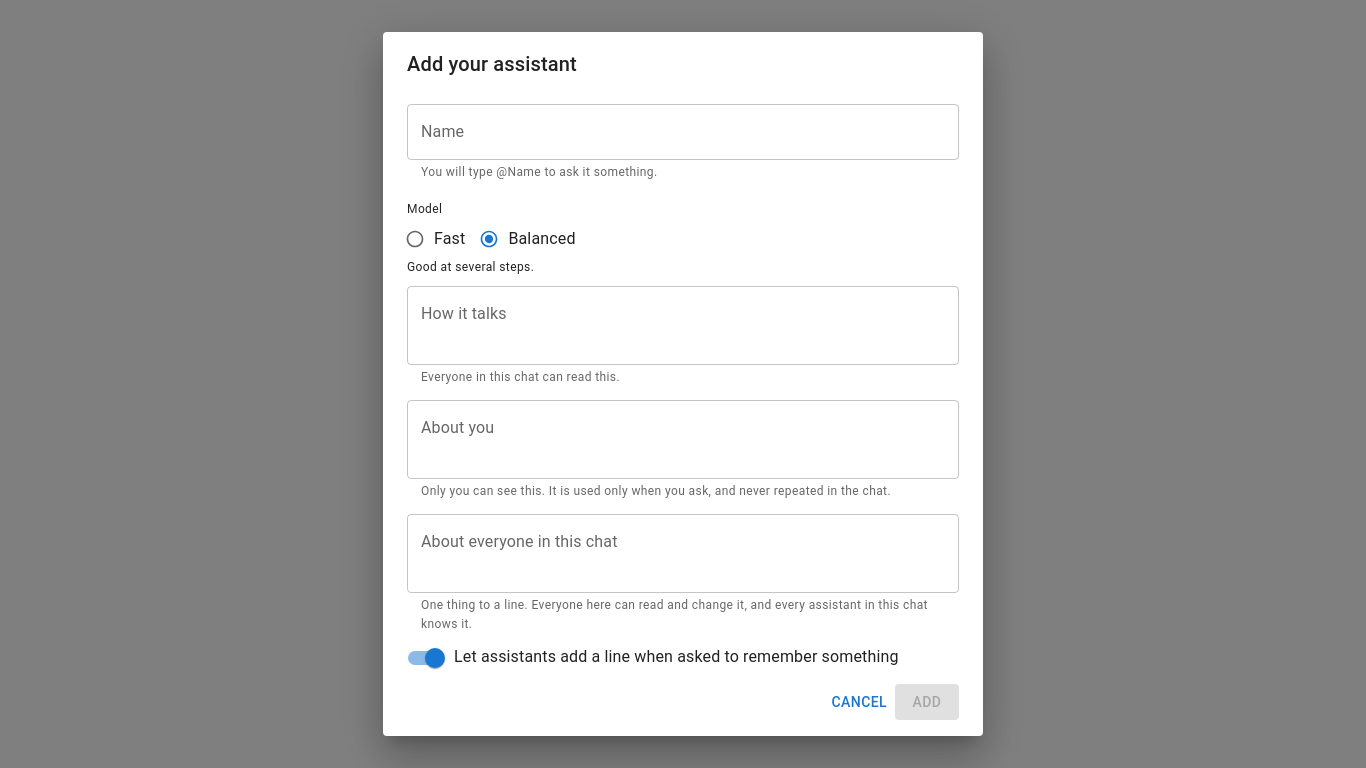
Test: adding an assistant › says something plain for a failure it cannot explain
In the field labelled "Name": (683, 132) [407,104,959,160], type "Tumbi"
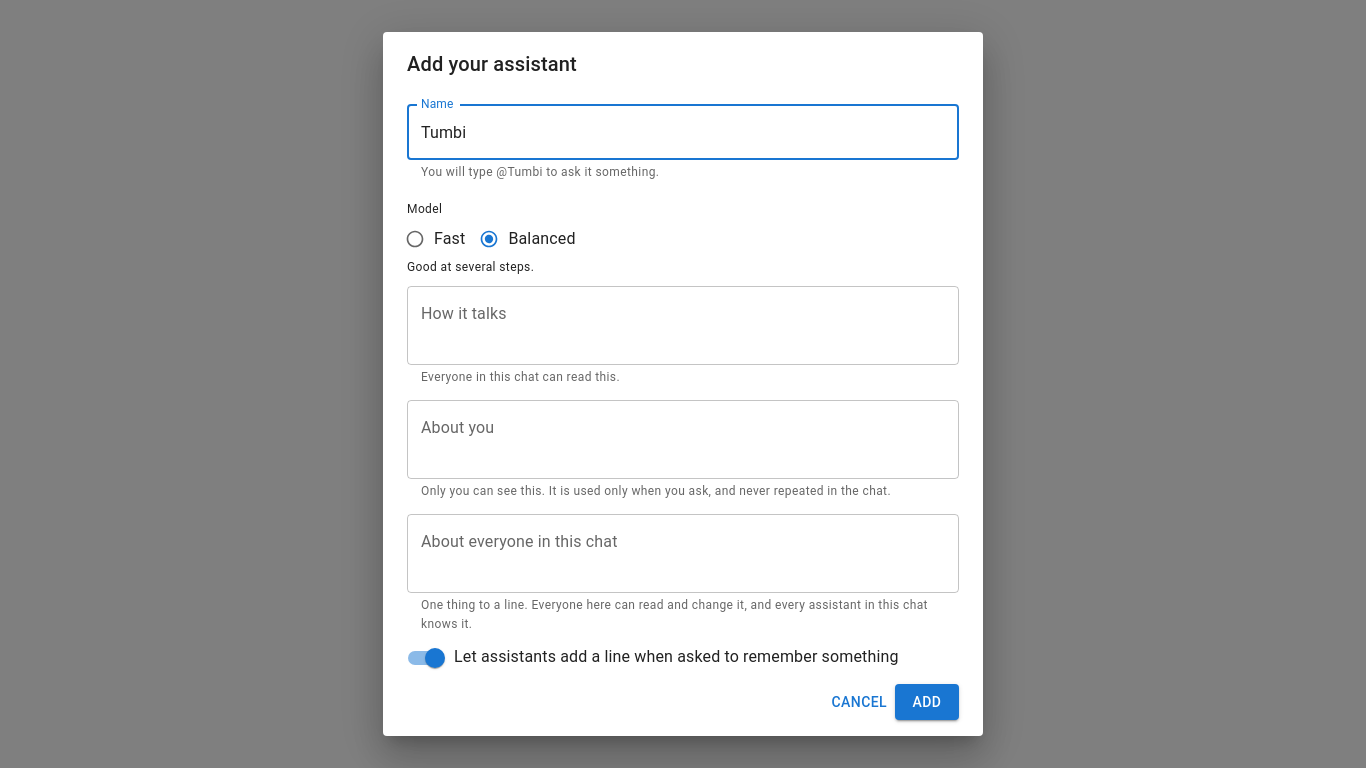
Click the button "Add": (927, 702) [895,684,959,720]
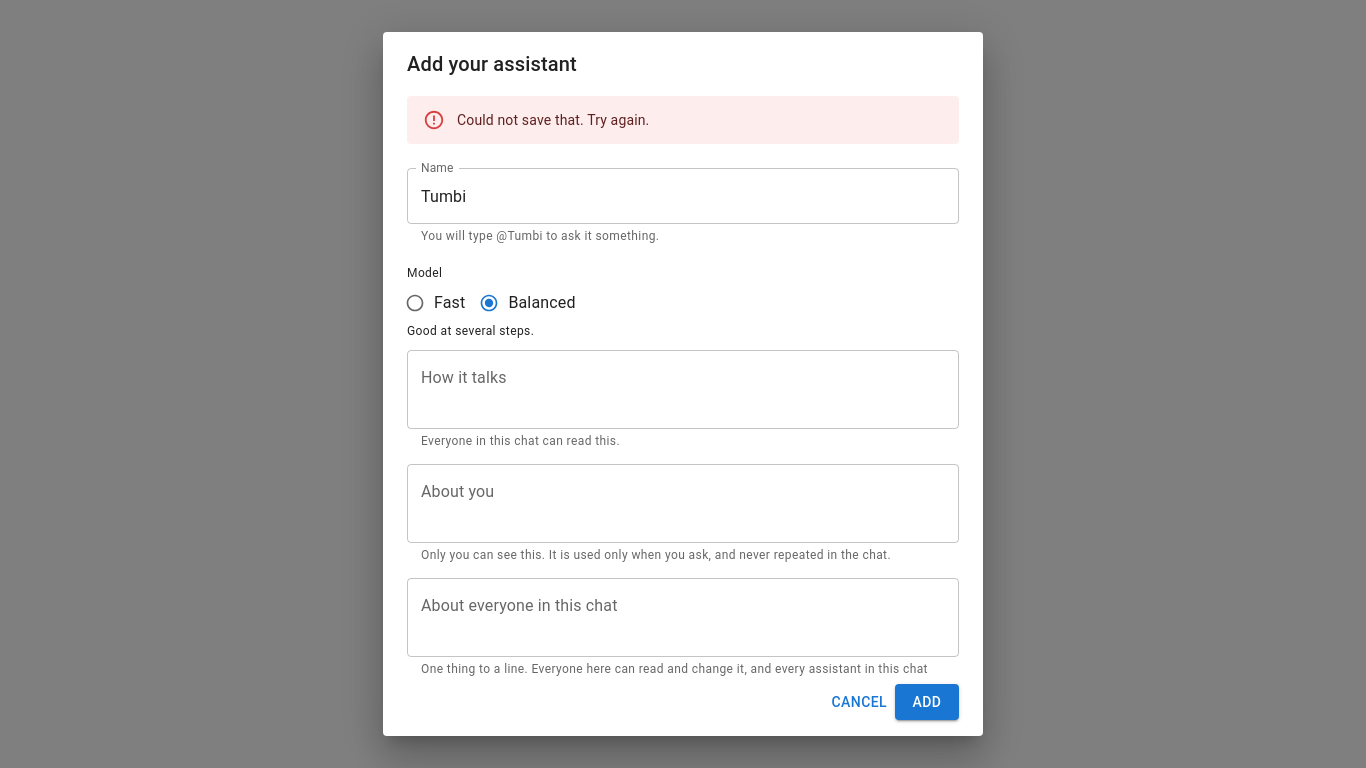
Now the text "Could not save that. Try again." is shown, box [457,112,649,128]
